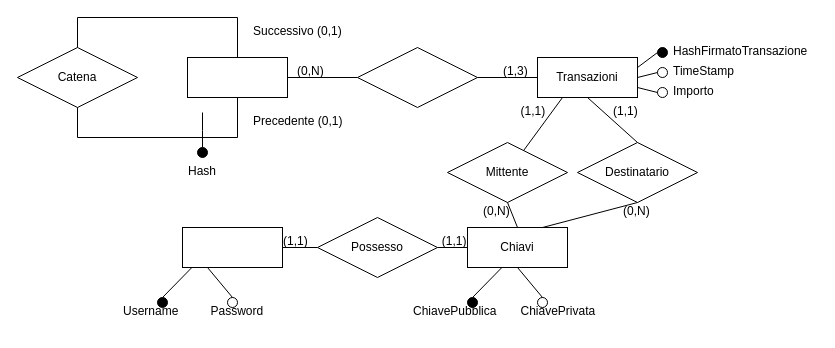
The diagram is 835 pixels wide and 348 high, and some of its shapes have lost their labels. Each missing label, with the box of its shape:
Blocco: (186, 56, 288, 98)
Contenuto: (356, 46, 478, 108)
Utente: (182, 226, 282, 268)
